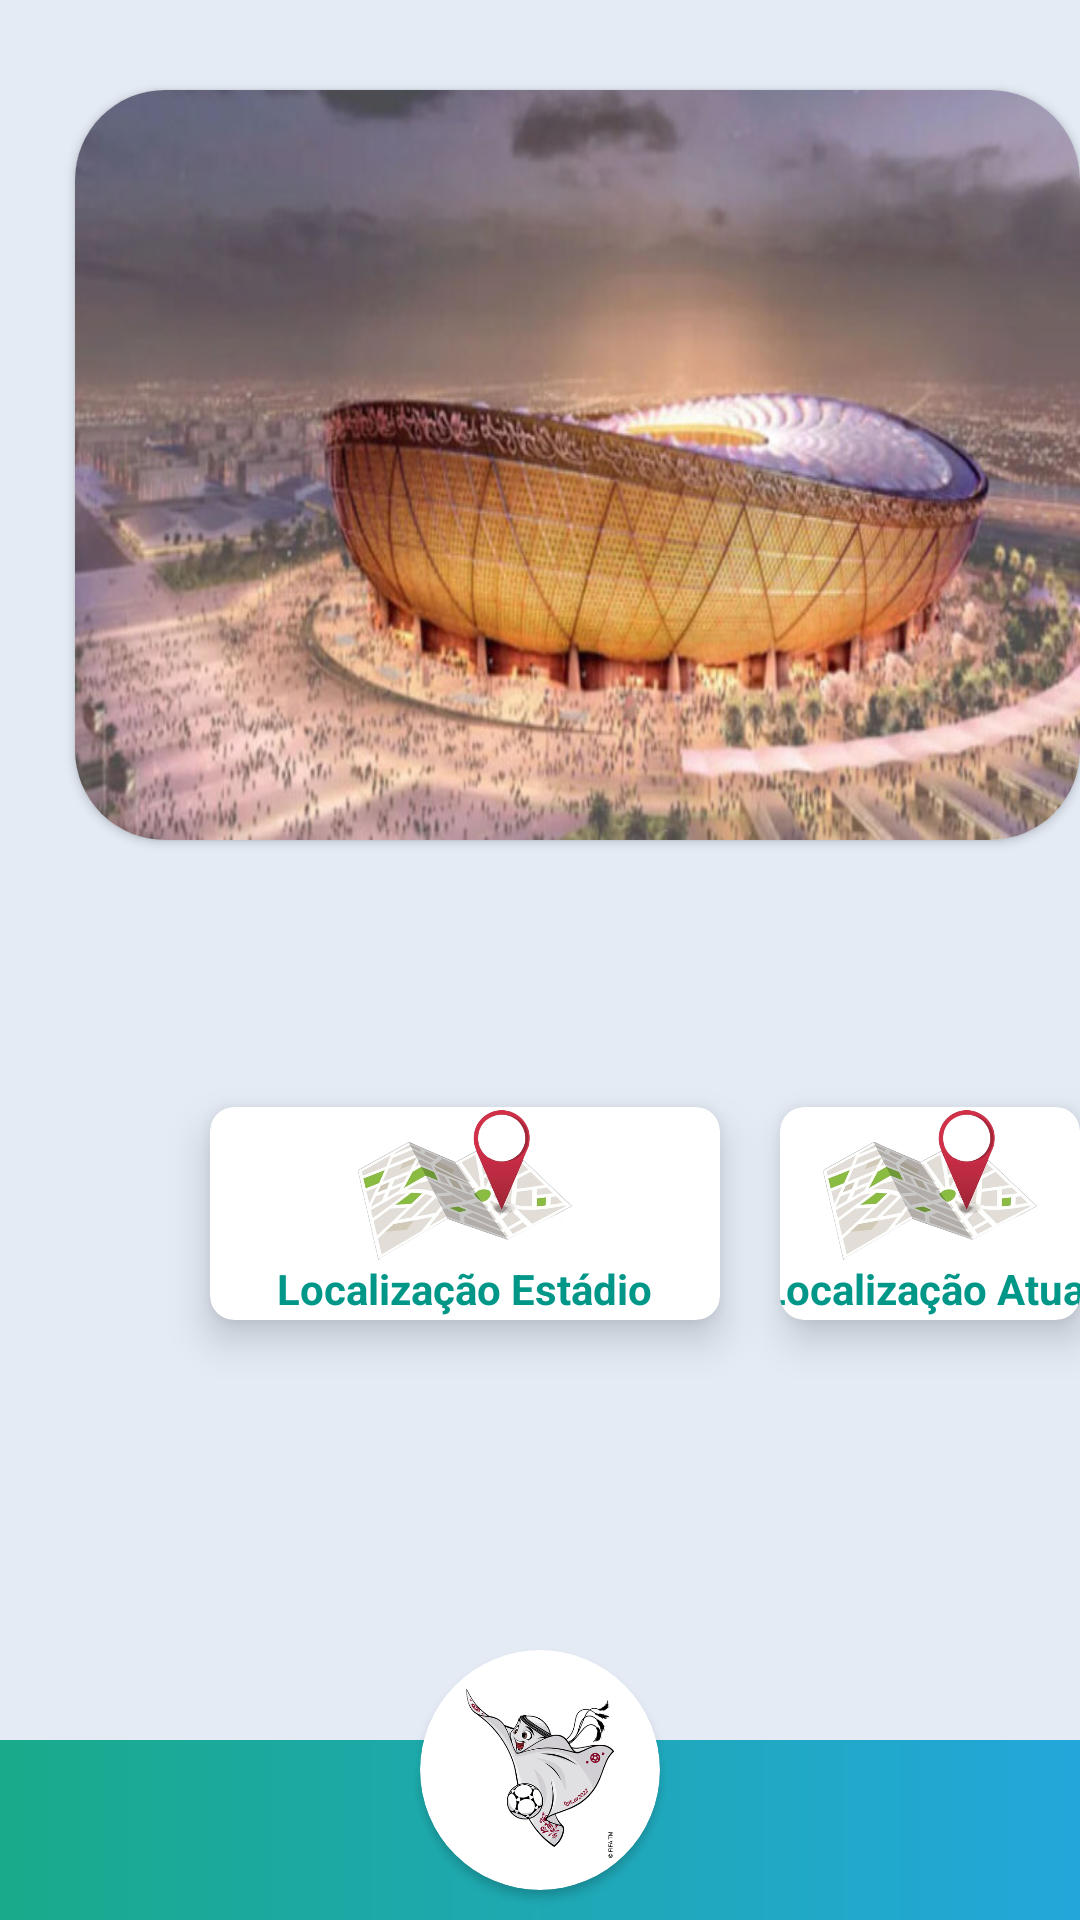

Point at icon controls on the screen. Image size 1080px x 1920px, points as (x,y).
mapa: (465,1185), (930,1185)
